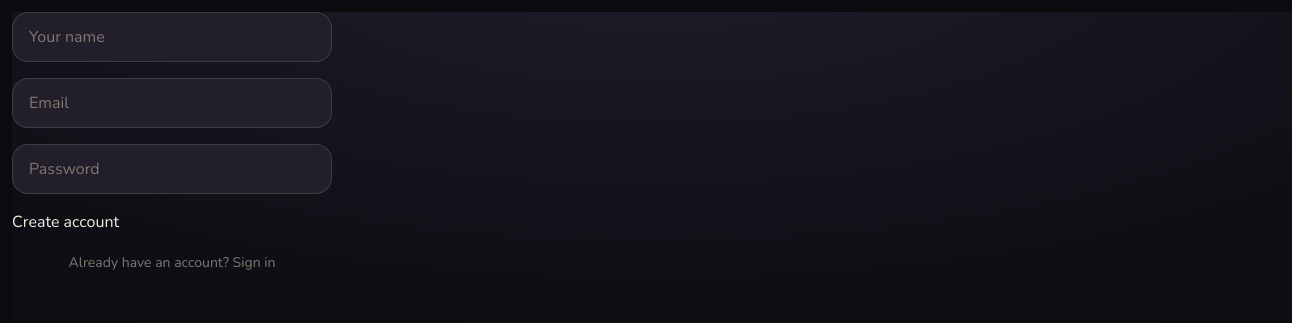
Test: AuthForm › shows error when sign in fails
Type "Test" into the field with placeholder "Your name".
click(172, 37); type("Test")  # box 12,12 -> 332,62
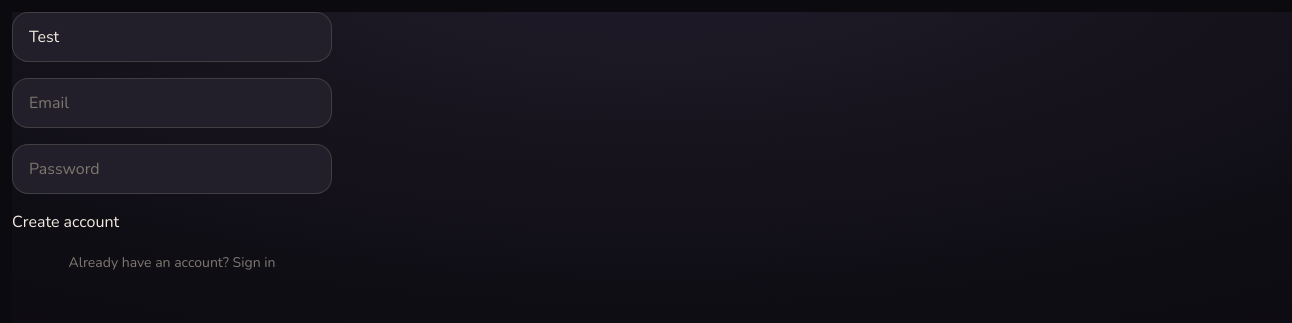
Type "test@example.com" into the field with placeholder "Email".
click(172, 103); type("test@example.com")  # box 12,78 -> 332,128
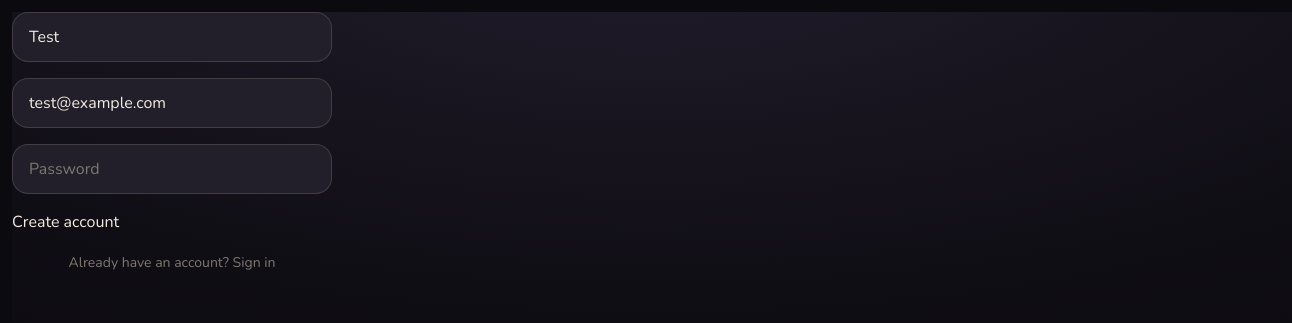
Type "password123" into the password field with placeholder "Password".
click(172, 169); type("password123")  # box 12,144 -> 332,194
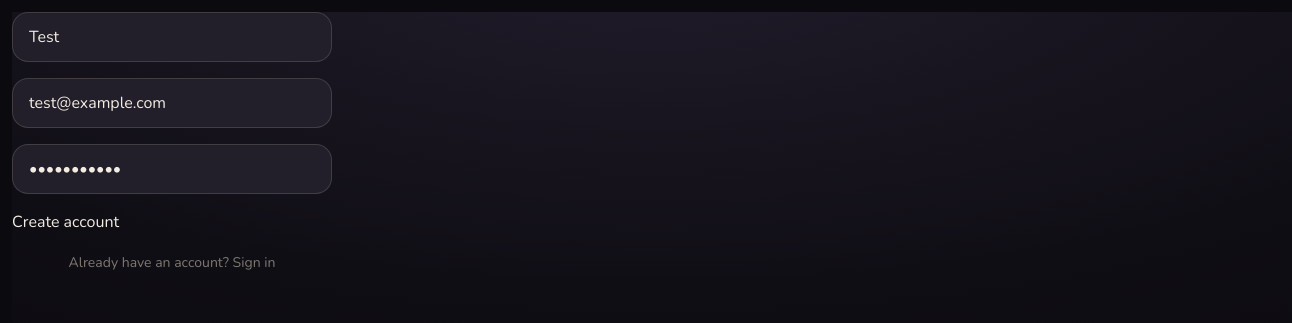
Click the button "Create account".
click(66, 222)  # box 12,210 -> 119,234
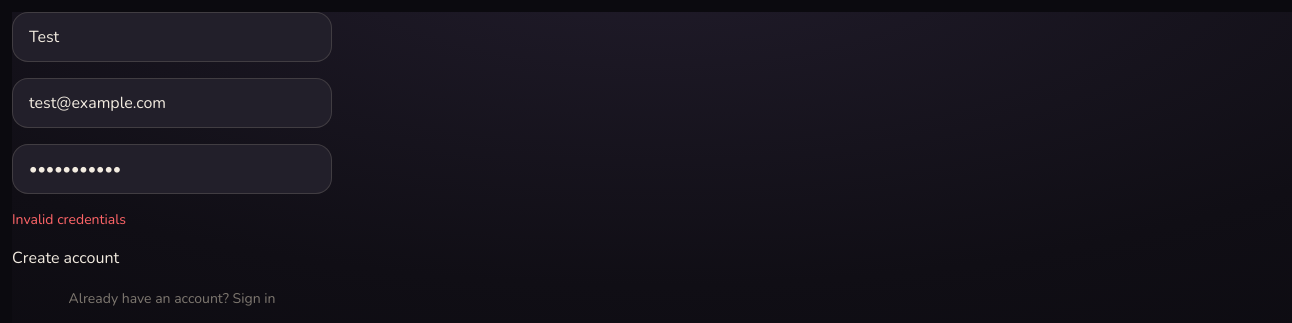
Check: the text "Invalid credentials" is shown, box 12,210 -> 126,229
